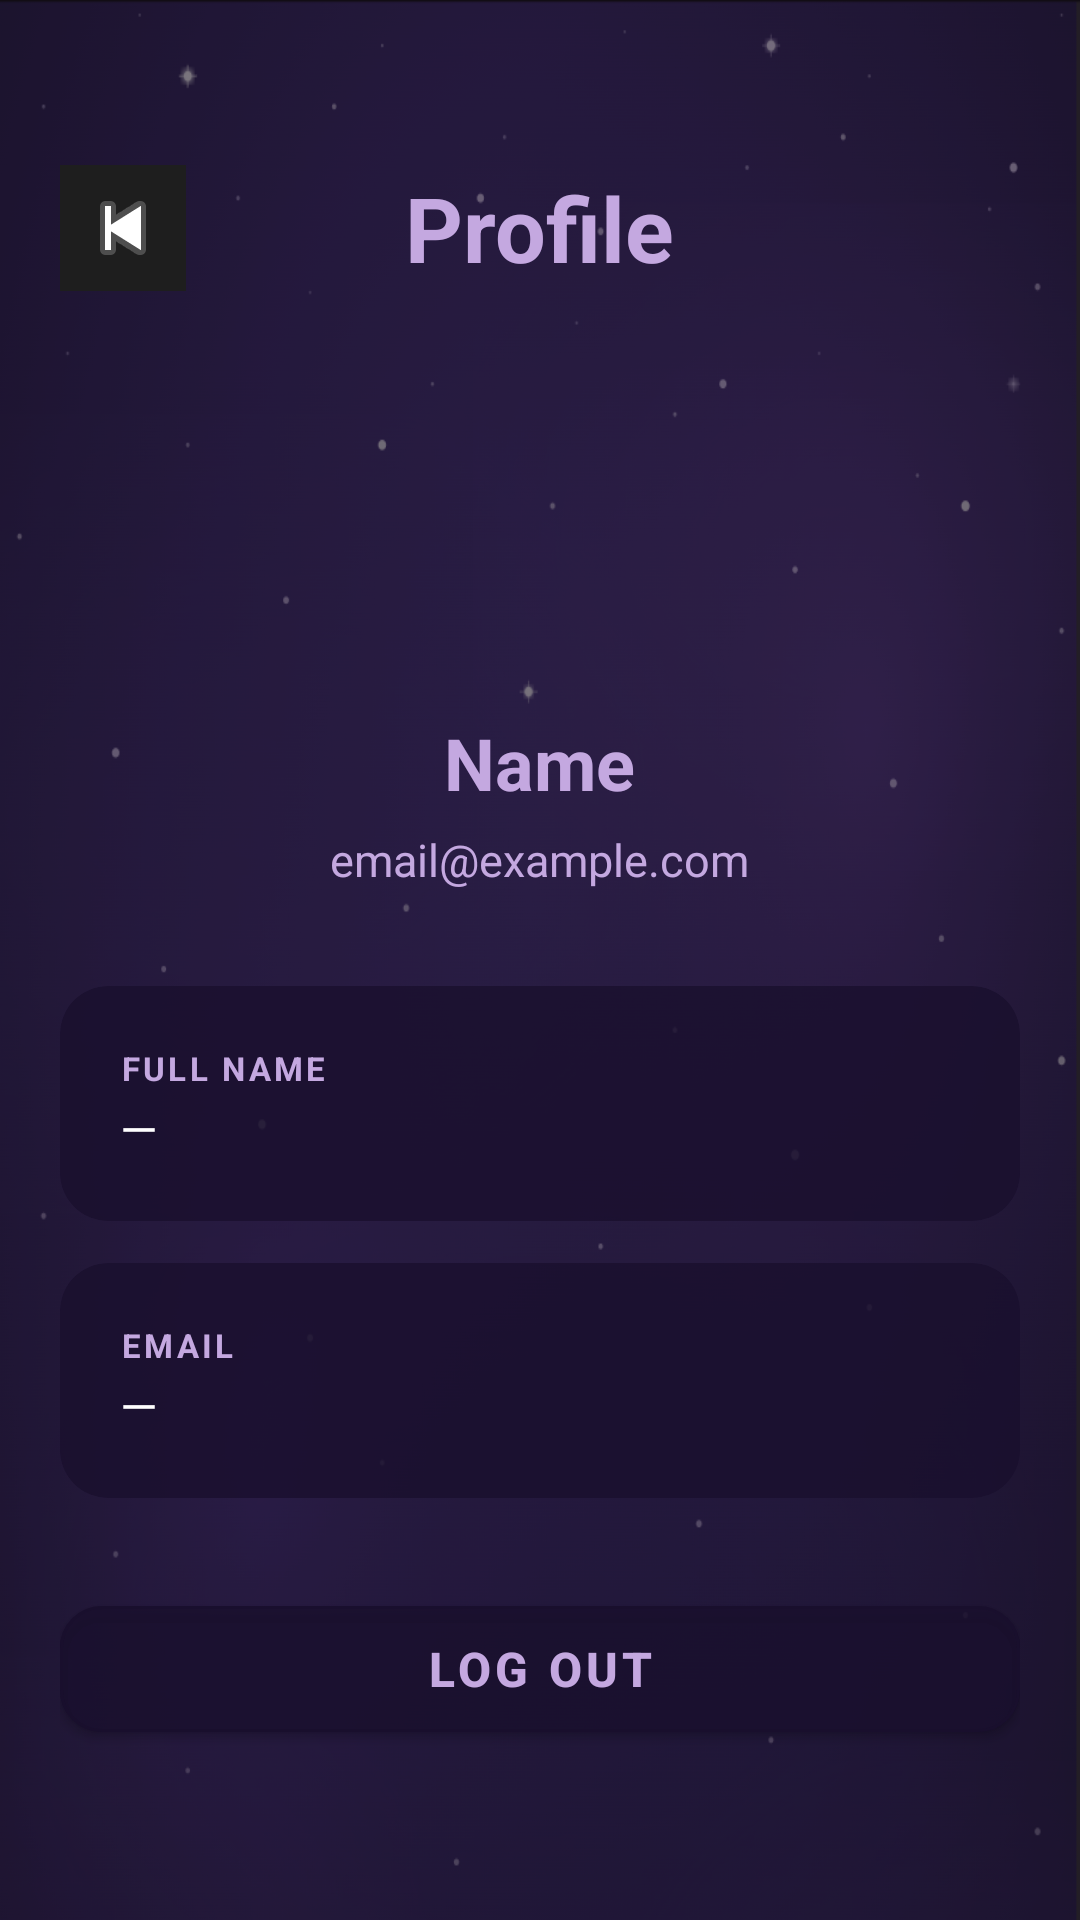

Icons on this 1080 × 1920 Android screen, each with the point to tap as (x=x, y=y):
previous: (x=123, y=228)
